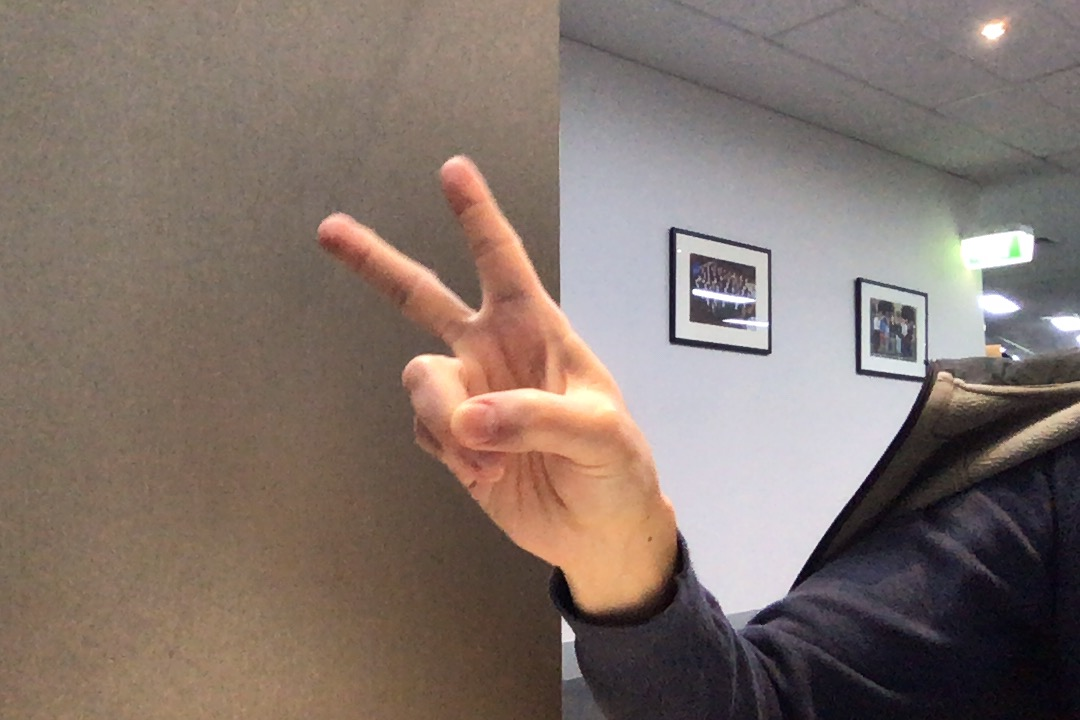peacesign: (305, 143, 696, 574)
